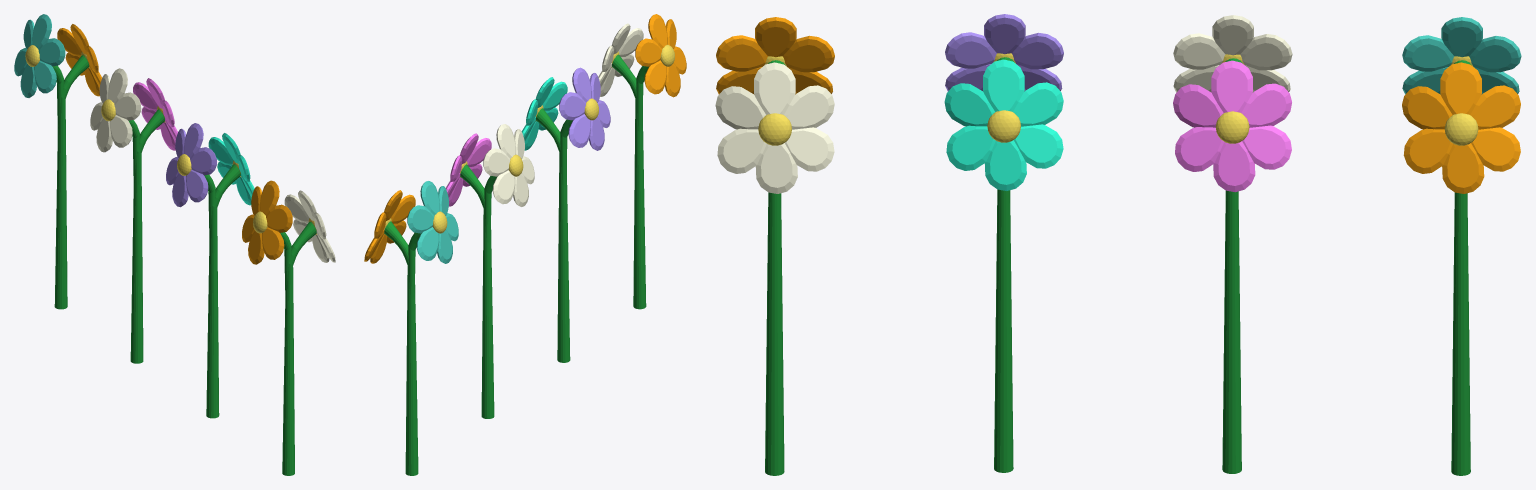
The model's file is sprinkfler_twoOfThem002.fbx.
The picture shows the model from 3 angles, left to right: view 1: azimuth 30°, elevation 25°; view 2: azimuth 150°, elevation 25°; view 3: azimuth 270°, elevation 25°; orthographic projection. The views are drawn at different scales.
Visible parts, largest first — view 1: flower :).003, flower :).001, flower :), flower :).002; view 2: flower :).002, flower :), flower :).003, flower :).001; view 3: flower :), flower :).001, flower :).002, flower :).003.
Part boxes in pixels (bbox=[...]): flower :).003: bbox=[242, 180, 335, 475]; flower :).001: bbox=[166, 123, 254, 418]; flower :): bbox=[90, 68, 177, 363]; flower :).002: bbox=[14, 14, 101, 309]; flower :).002: bbox=[364, 181, 458, 475]; flower :): bbox=[445, 124, 534, 418]; flower :).003: bbox=[598, 14, 686, 309]; flower :).001: bbox=[521, 67, 610, 362]; flower :): bbox=[1173, 15, 1292, 473]; flower :).001: bbox=[944, 14, 1063, 472]; flower :).002: bbox=[1402, 17, 1521, 475]; flower :).003: bbox=[715, 17, 834, 475].
Size of the model in its own units: 56.3 by 216 by 352.
